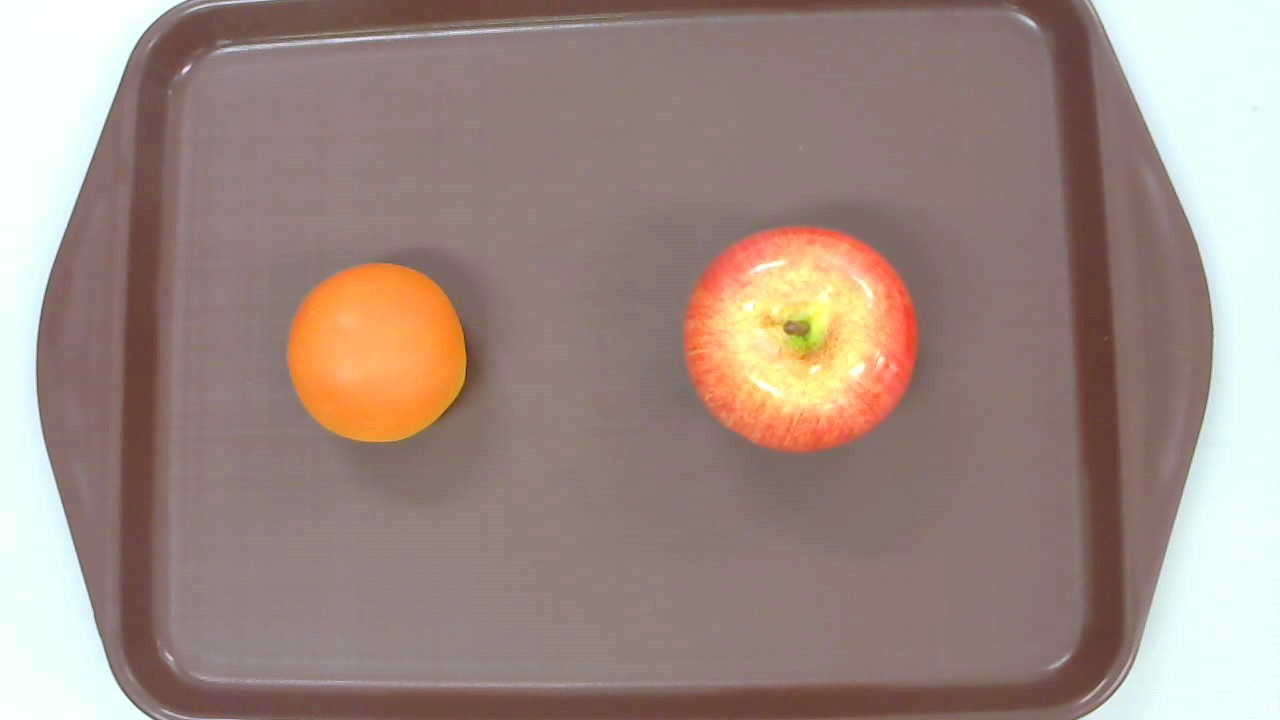bun: (286, 263, 465, 443)
red apple: (681, 226, 918, 455)
